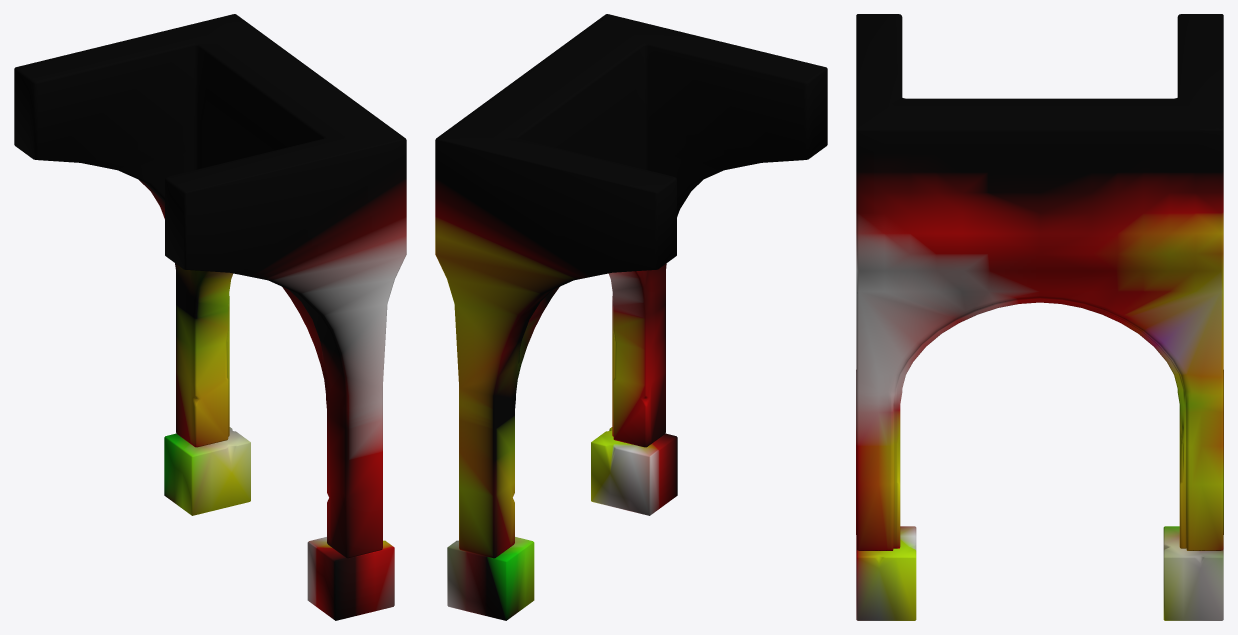
The model's file is SM_Column_Crypt_Var_03.fbx.
3 views of the same model, side by side, from view 1: azimuth 30°, elevation 25°; view 2: azimuth 150°, elevation 25°; view 3: azimuth 270°, elevation 25° (orthographic). The views are drawn at different scales.
Parts seen in each view (by area): view 1: SM_Column_Crypt_Var_03_LOD0; view 2: SM_Column_Crypt_Var_03_LOD0; view 3: SM_Column_Crypt_Var_03_LOD0.
Boxes of the visible parts, bbox=[...] form: SM_Column_Crypt_Var_03_LOD0: bbox=[14, 14, 406, 620]; SM_Column_Crypt_Var_03_LOD0: bbox=[435, 14, 827, 620]; SM_Column_Crypt_Var_03_LOD0: bbox=[856, 14, 1223, 620].
Size of the model in its own units: 300 by 401 by 600.
